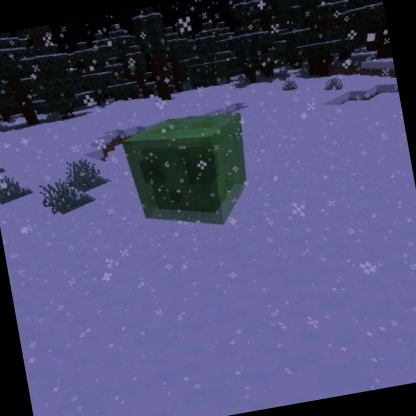slime: (116, 104, 261, 242)
